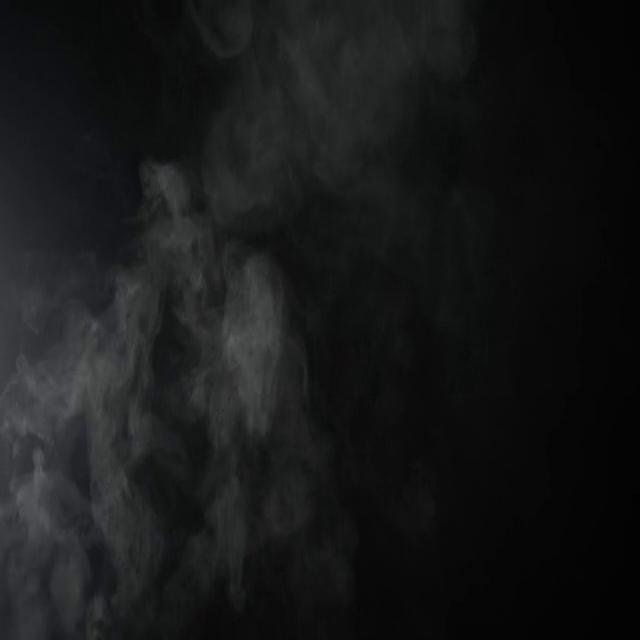smoke: (112, 308, 200, 456), (213, 260, 276, 422), (239, 398, 308, 531), (216, 110, 273, 234), (293, 64, 373, 150), (101, 461, 160, 574), (63, 358, 119, 461), (174, 529, 244, 608)
